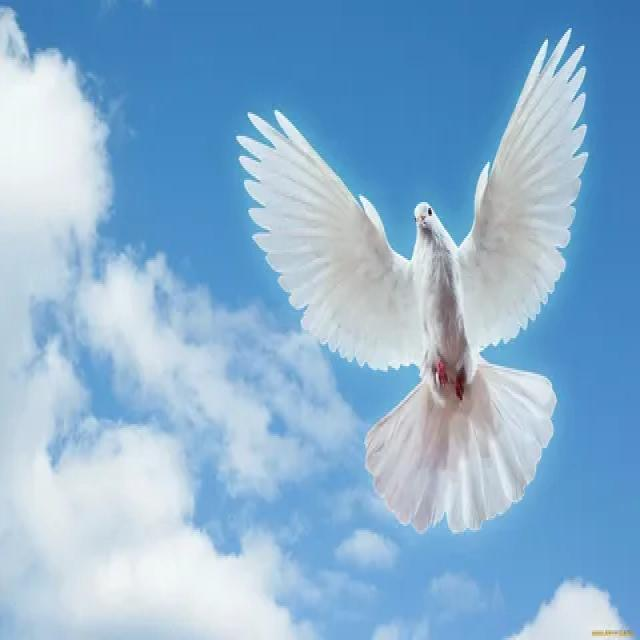pigeon: (233, 26, 592, 538)
